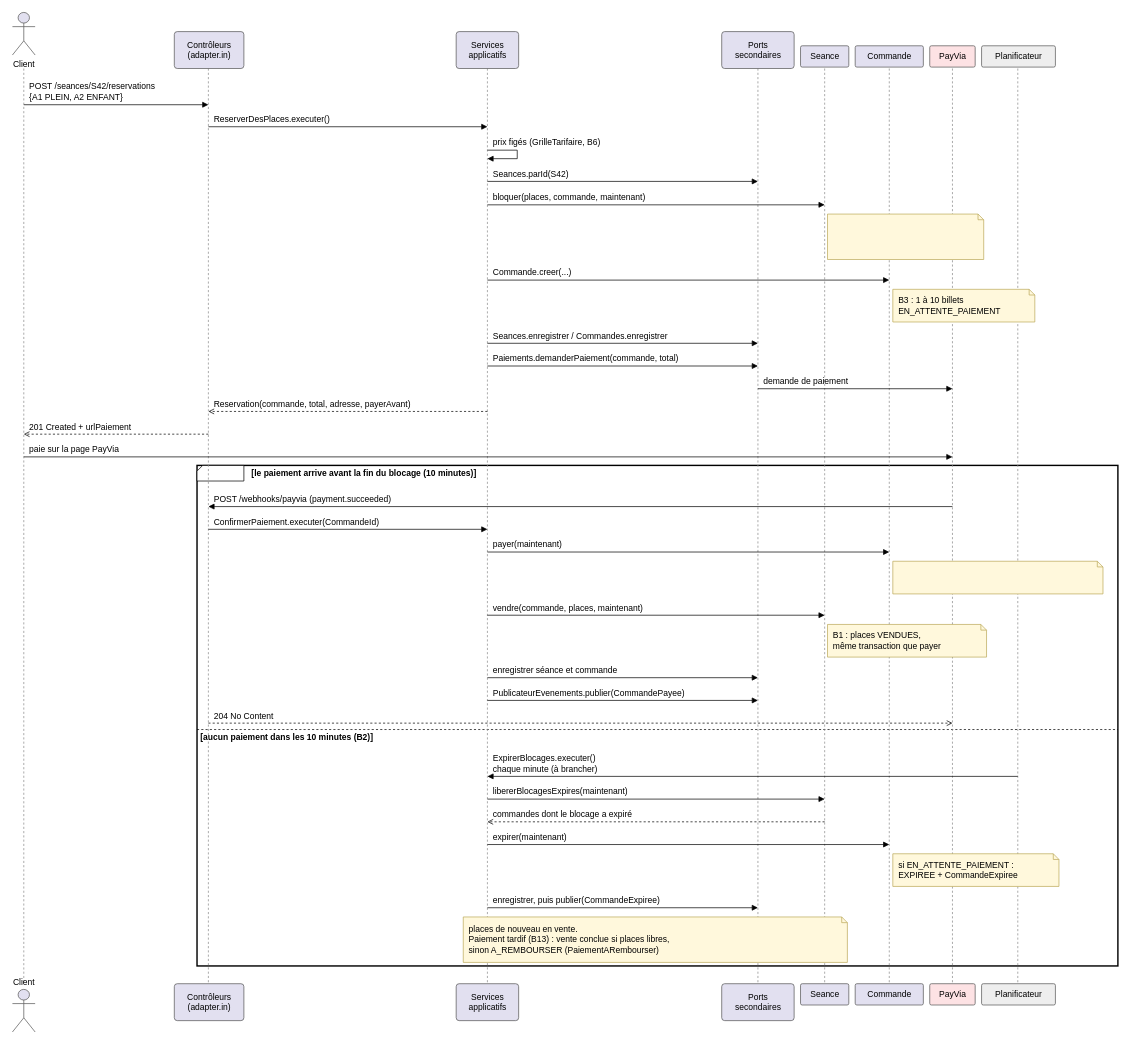
Some shapes in this 1145 by 1044 pixel diagram are drawn without their labels. The centre of each missing label's shape, as x and y in pixels:
alt: (x=220, y=473)
B4 vente ouverte B1 places libres, tout ou rien B2 blocage de 10 minutes: (x=905, y=236)
PAYEE + événement CommandePayee (déjà PAYEE : ignoré, B14): (x=997, y=577)
